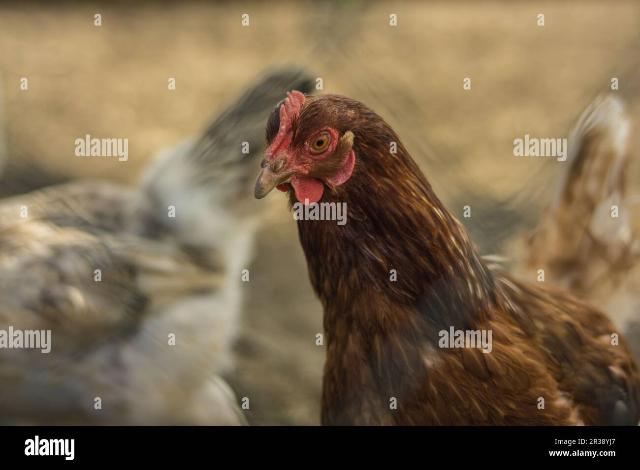Chicken: (253, 89, 639, 427), (0, 68, 319, 421)
